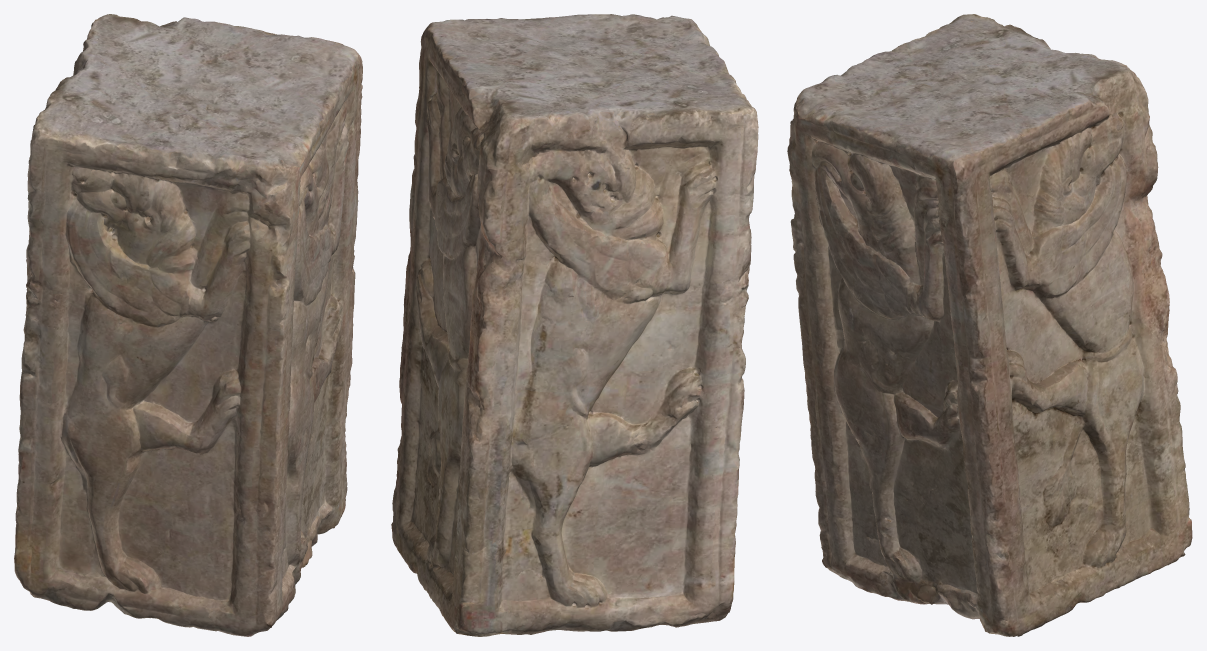
File: preview.glb
The picture shows the model from 3 angles, left to right: view 1: azimuth 30°, elevation 25°; view 2: azimuth 150°, elevation 25°; view 3: azimuth 270°, elevation 25°; orthographic projection. The views are drawn at different scales.
Parts seen in each view (by area): view 1: ADVIMG_25_120_995_PierWithLionsGriffins_DEC6M_MASTER_n3d; view 2: ADVIMG_25_120_995_PierWithLionsGriffins_DEC6M_MASTER_n3d; view 3: ADVIMG_25_120_995_PierWithLionsGriffins_DEC6M_MASTER_n3d.
Boxes of the visible parts, x1=… form: ADVIMG_25_120_995_PierWithLionsGriffins_DEC6M_MASTER_n3d: x1=14, y1=14, x2=362, y2=636; ADVIMG_25_120_995_PierWithLionsGriffins_DEC6M_MASTER_n3d: x1=391, y1=14, x2=758, y2=636; ADVIMG_25_120_995_PierWithLionsGriffins_DEC6M_MASTER_n3d: x1=787, y1=14, x2=1192, y2=636.
Bounding box in the file's own units: 0.305 × 0.4491 × 0.3265.
1 material, 1 textured.
